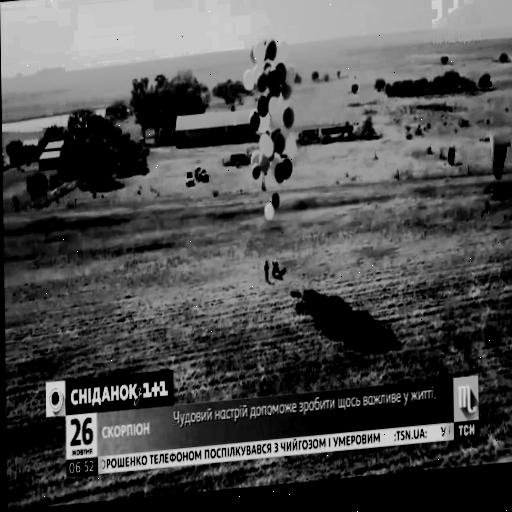balloon: (280, 80, 294, 100), (277, 40, 289, 62), (267, 95, 280, 115), (267, 69, 279, 90), (274, 162, 286, 183), (266, 38, 277, 60), (285, 62, 296, 84), (258, 113, 269, 134), (263, 136, 273, 159), (255, 41, 265, 63), (250, 111, 261, 131), (254, 62, 263, 86), (243, 69, 254, 88), (257, 73, 268, 92), (274, 134, 285, 153), (258, 96, 268, 116), (284, 107, 294, 127), (250, 149, 261, 167), (287, 136, 296, 158), (272, 154, 283, 172), (260, 152, 270, 171), (283, 160, 293, 179), (271, 127, 282, 144), (264, 202, 274, 220), (277, 63, 286, 82), (252, 163, 261, 180), (259, 134, 268, 148), (264, 60, 273, 74), (250, 46, 258, 61), (272, 194, 280, 208)
